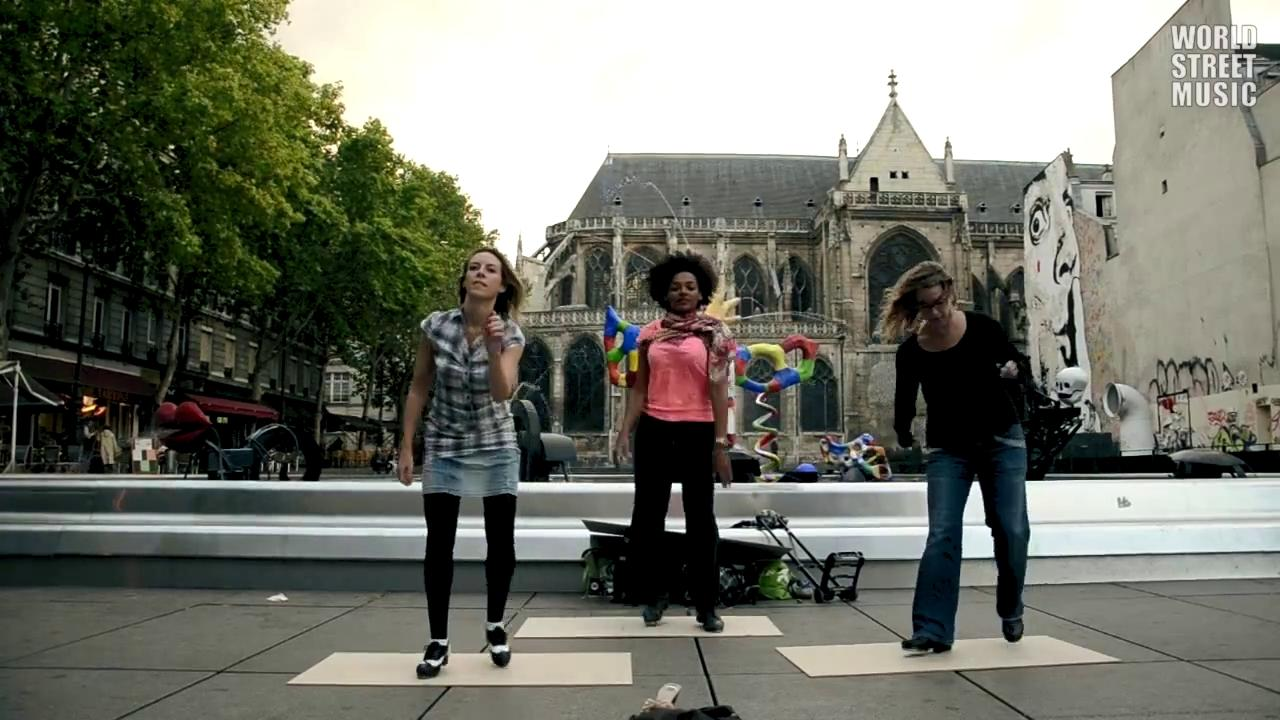victim: (875, 251, 1063, 668), (394, 247, 546, 686), (610, 250, 740, 636), (95, 426, 117, 474), (79, 417, 100, 465)
